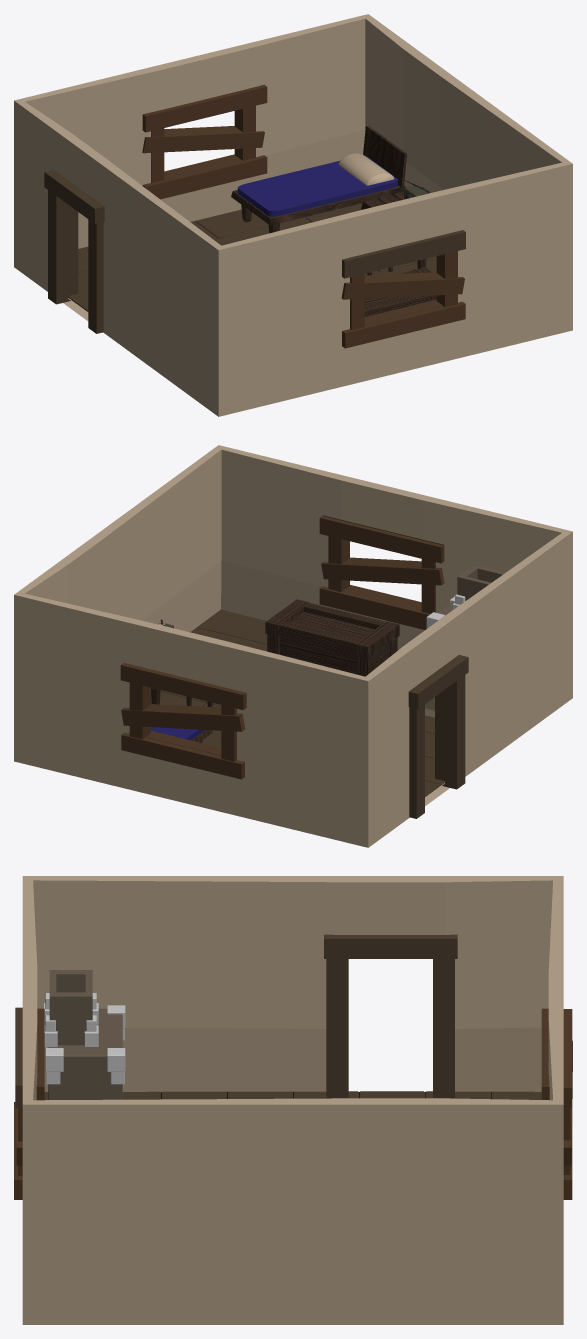
File: dom.fbx
3 views of the same model, one above another, from view 1: azimuth 30°, elevation 25°; view 2: azimuth 150°, elevation 25°; view 3: azimuth 270°, elevation 25° (orthographic). The views are drawn at different scales.
Parts seen in each view (by area): view 1: room, na oknax, matras, pol.004, Cube.007, bad, Cube.001, Cube.006, Cube.008, Cylinder, Cube.003; view 2: room, na oknax, pol.004, Cube.006, box, Cube.003, Cube.007, Cube.004, Cube.008, kamin, Cube.005; view 3: room, kamin, na oknax, Cube.008, pol.004, Cube.006, Cube.007, kamni2, kamni, Cube.001.
Part boxes in pixels (<box>): room: <box>14,14,572,416</box>; na oknax: <box>142,84,465,348</box>; matras: <box>237,156,397,216</box>; pol.004: <box>67,203,436,311</box>; Cube.007: <box>48,190,78,304</box>; bad: <box>231,126,406,233</box>; Cube.001: <box>342,230,465,278</box>; Cube.006: <box>88,219,103,333</box>; Cube.008: <box>44,170,104,223</box>; Cylinder: <box>338,153,394,185</box>; Cube.003: <box>364,270,436,316</box>; room: <box>14,445,572,847</box>; na oknax: <box>120,516,444,779</box>; pol.004: <box>151,609,445,796</box>; Cube.006: <box>435,675,465,789</box>; box: <box>280,612,390,674</box>; Cube.003: <box>279,603,385,654</box>; Cube.007: <box>409,704,424,818</box>; Cube.004: <box>265,599,399,658</box>; Cube.008: <box>408,655,468,708</box>; kamin: <box>425,565,505,717</box>; Cube.005: <box>267,634,397,676</box>; room: <box>22,876,563,1324</box>; kamin: <box>48,970,122,1099</box>; na oknax: <box>14,1008,572,1199</box>; Cube.008: <box>324,934,457,958</box>; pol.004: <box>44,1091,541,1099</box>; Cube.006: <box>326,959,348,1097</box>; Cube.007: <box>433,959,454,1097</box>; kamni2: <box>45,1005,125,1084</box>; kamni: <box>43,993,98,1047</box>; Cube.001: <box>15,1007,37,1108</box>.
Size of the model in its own units: 205 by 89.87 by 207.
